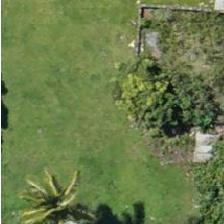coconut_tree: (14, 166, 104, 223)
